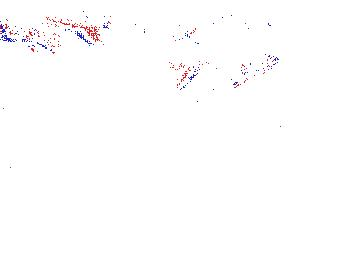glassfish: (82, 7, 200, 62)
redtail glassfish: (169, 50, 279, 90), (1, 15, 108, 52), (206, 12, 273, 34)
